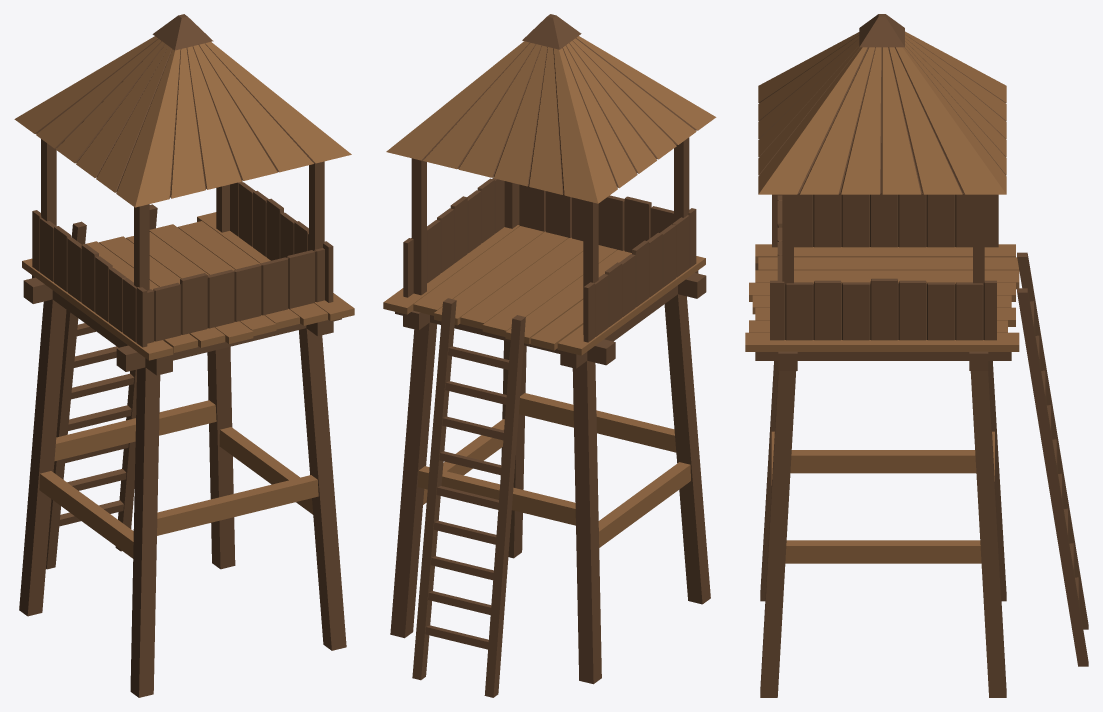
File: GuardTower_2_lvl_mat.fbx
3 views of the same model, side by side, from view 1: azimuth 30°, elevation 25°; view 2: azimuth 150°, elevation 25°; view 3: azimuth 270°, elevation 25° (orthographic). The views are drawn at different scales.
Visible parts, largest first — view 1: GuardTower_2_lvl_mat; view 2: GuardTower_2_lvl_mat; view 3: GuardTower_2_lvl_mat.
Boxes of the visible parts, bbox=[...] form: GuardTower_2_lvl_mat: bbox=[14, 14, 354, 697]; GuardTower_2_lvl_mat: bbox=[383, 14, 716, 697]; GuardTower_2_lvl_mat: bbox=[745, 14, 1088, 697].
Size of the model in its own units: 1.47 by 3.96 by 1.96.
